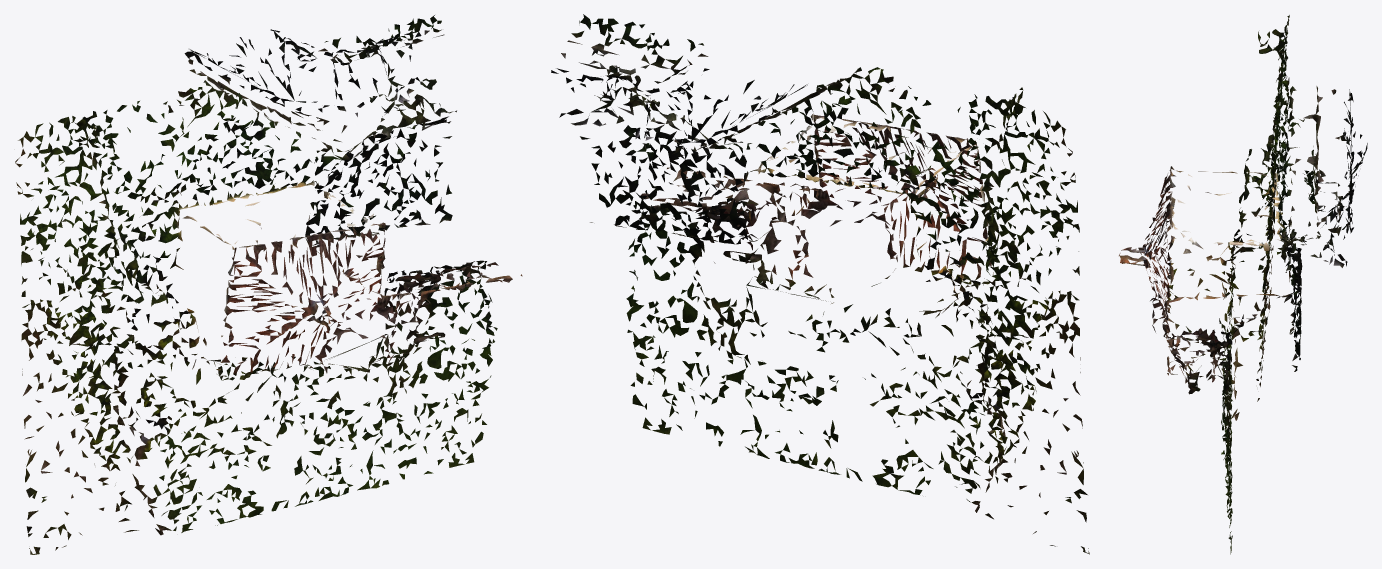
3 views of the same model, side by side, from view 1: azimuth 30°, elevation 25°; view 2: azimuth 150°, elevation 25°; view 3: azimuth 270°, elevation 25° (orthographic). The views are drawn at different scales.
Size of the model in its own units: 25.32 by 22.71 by 13.78.
Materials: 1 (1 with a texture image).
